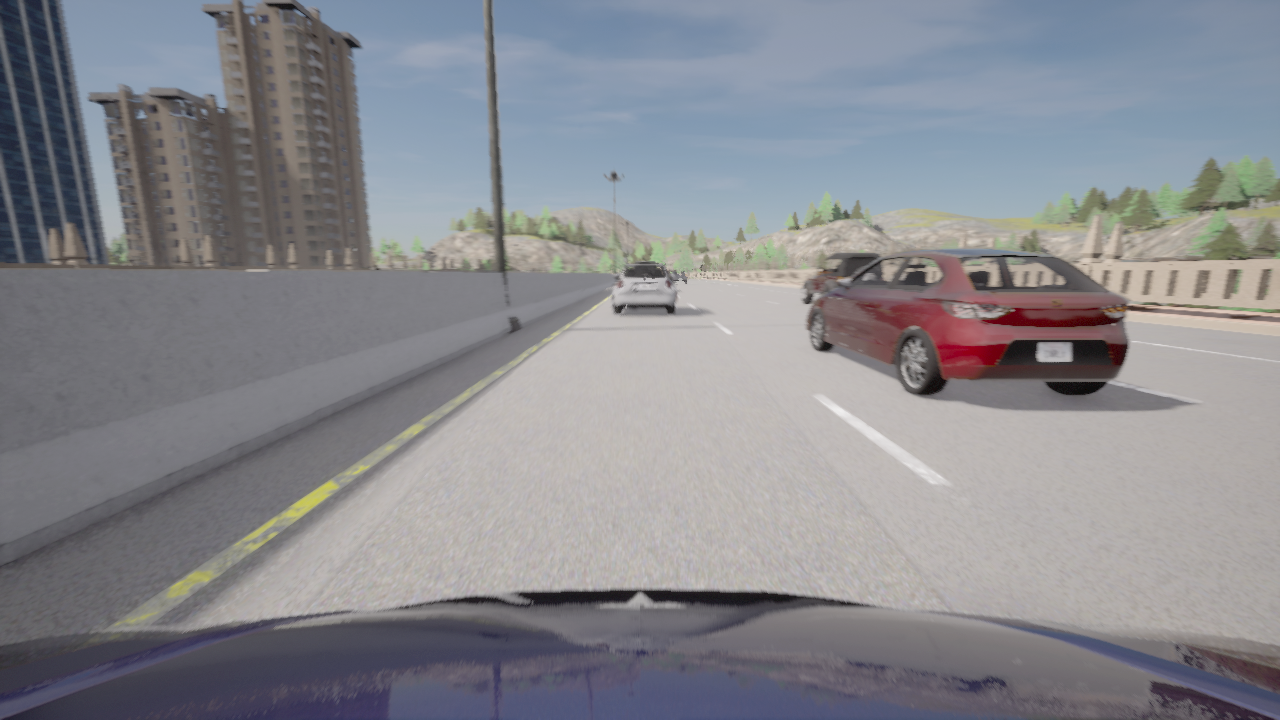cyclist: (0, 588, 1279, 719), (805, 248, 1129, 396), (800, 252, 880, 304), (612, 264, 675, 314), (671, 270, 687, 284), (635, 262, 654, 263)
